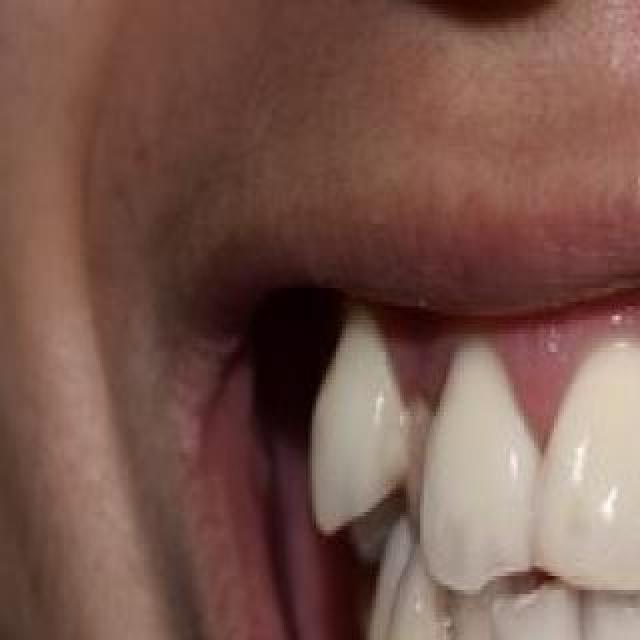calculus: (636, 394, 640, 512)
maligned: (406, 347, 532, 591), (287, 330, 421, 530), (366, 380, 444, 554), (368, 552, 460, 640), (498, 588, 598, 640), (452, 566, 522, 640)
